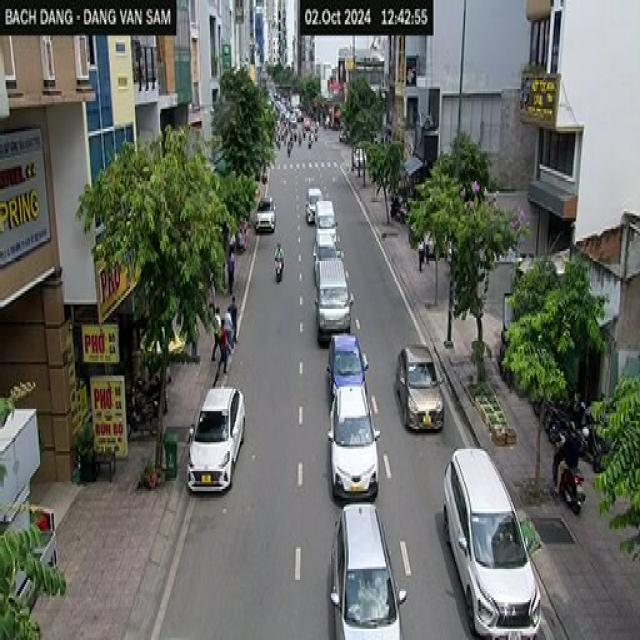car: (440, 449, 545, 640), (332, 502, 408, 640), (190, 389, 246, 501), (389, 342, 448, 437), (334, 383, 380, 502), (317, 256, 353, 335), (330, 333, 372, 396), (311, 236, 342, 280), (315, 195, 340, 240), (257, 192, 277, 232), (304, 181, 322, 222)
motorcycle: (550, 440, 586, 522), (272, 258, 286, 286)
person: (564, 416, 581, 489), (229, 294, 241, 346), (218, 318, 230, 366), (212, 305, 222, 357), (225, 304, 235, 350), (277, 240, 284, 272)
